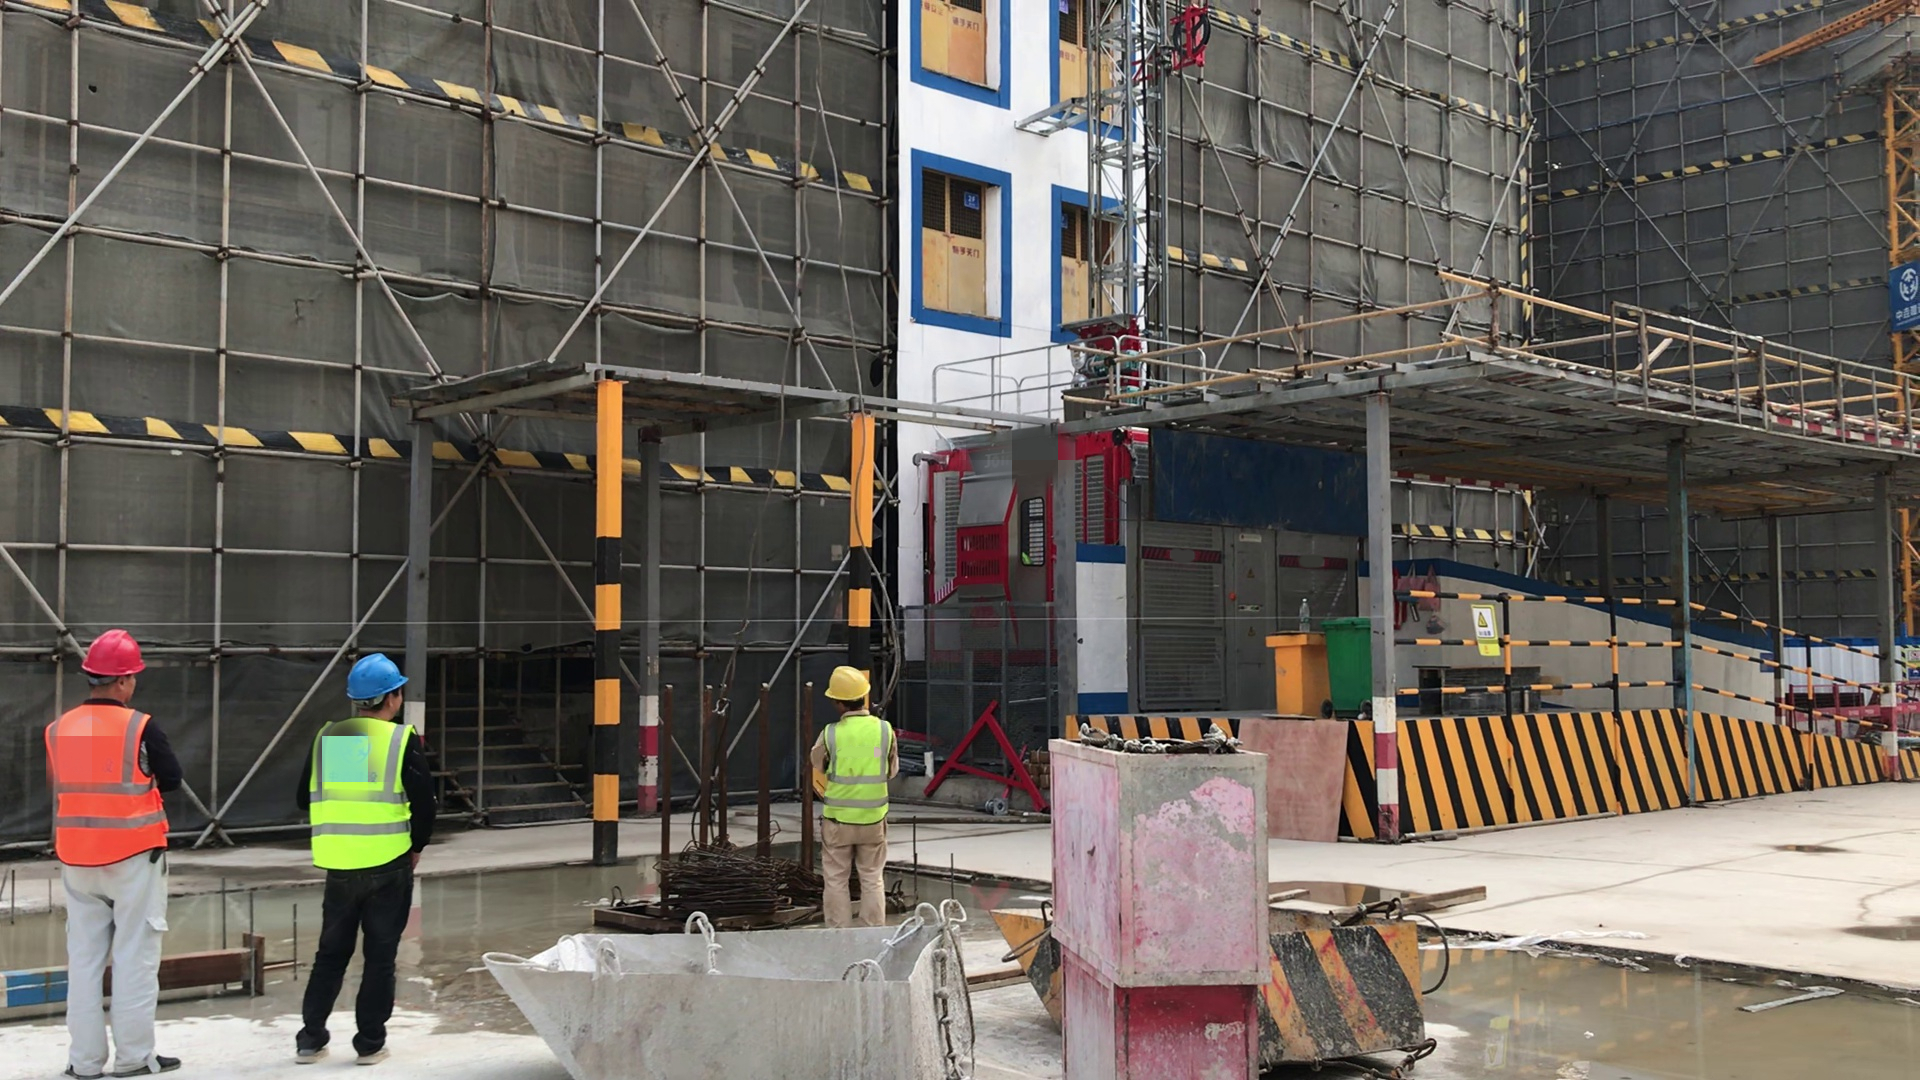fence: (1407, 586, 1920, 768)
helmet: (76, 623, 151, 687), (338, 654, 415, 704), (818, 663, 878, 705)
hopper: (475, 892, 967, 1080), (1002, 886, 1470, 1077)
person: (44, 626, 195, 1080), (300, 652, 425, 1064), (808, 654, 897, 928)
slogan: (1460, 577, 1516, 671)
vest: (39, 702, 171, 872), (300, 718, 419, 883), (805, 716, 900, 827)
